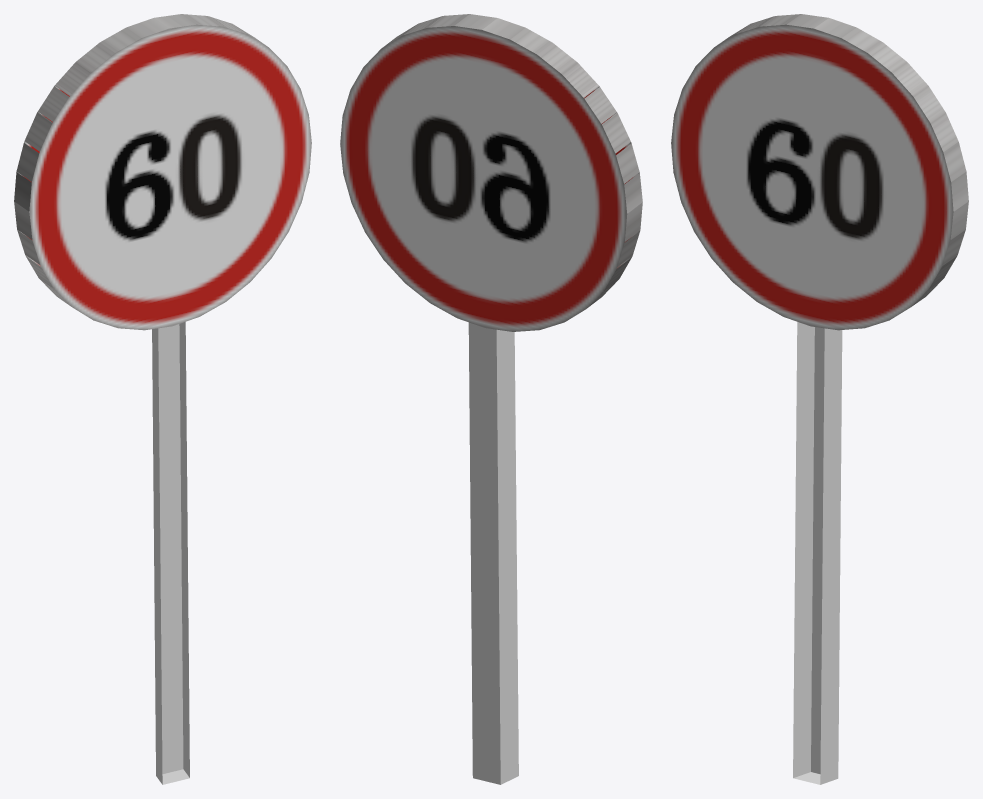
3 views of the same model, side by side, from view 1: azimuth 30°, elevation 25°; view 2: azimuth 150°, elevation 25°; view 3: azimuth 330°, elevation 25° (orthographic).
Visible parts, largest first — view 1: Cycle, Xui; view 2: Cycle, Xui; view 3: Cycle, Xui.
Boxes of the visible parts, box(x1,y1,x2,y2) form: Cycle: box(14, 14, 311, 330); Xui: box(152, 322, 189, 784); Cycle: box(340, 14, 642, 331); Xui: box(468, 322, 518, 784); Cycle: box(671, 14, 968, 330); Xui: box(793, 322, 842, 784).
Size of the model in its own units: 0.2554 by 0.0352 by 0.6471.
1 material, 1 textured.
